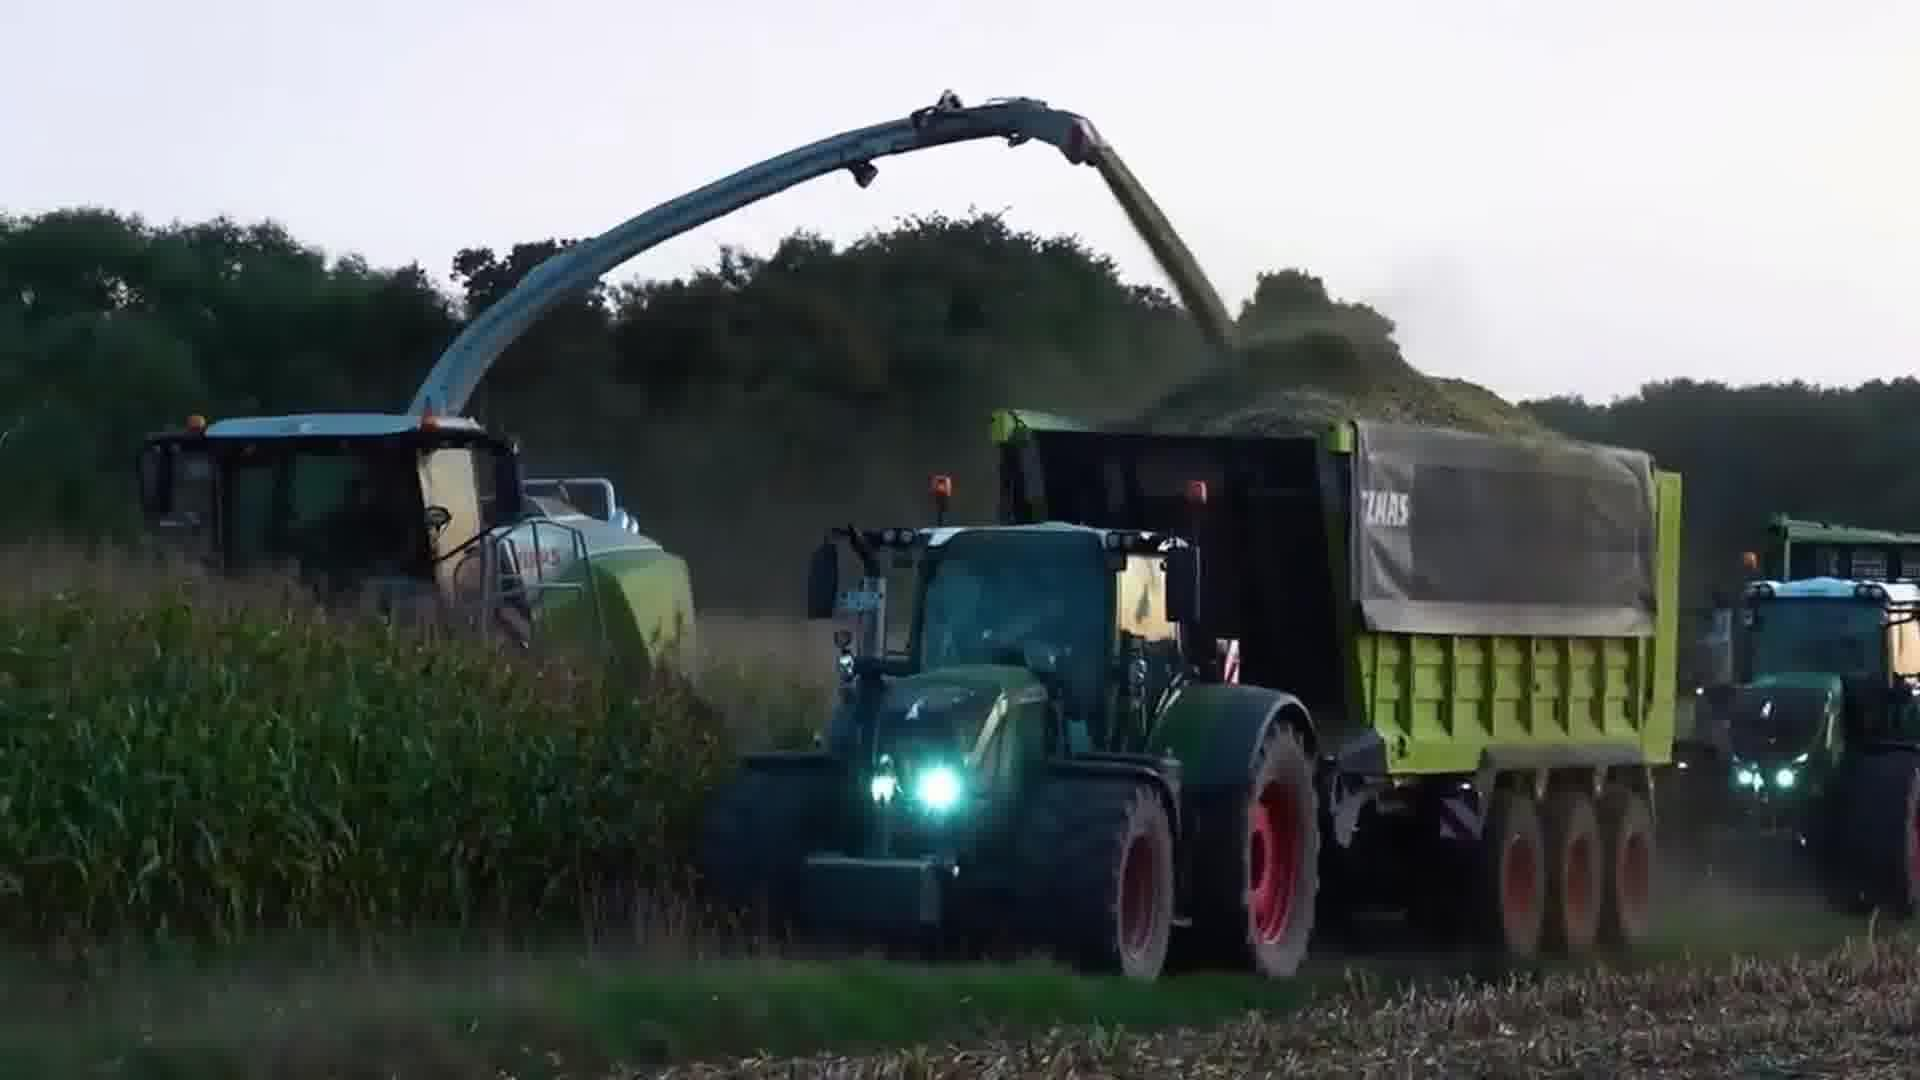combine harvester: (121, 82, 1118, 725)
tractor: (708, 465, 1340, 1001), (1675, 571, 1920, 922)
trailer: (982, 365, 1691, 972)
